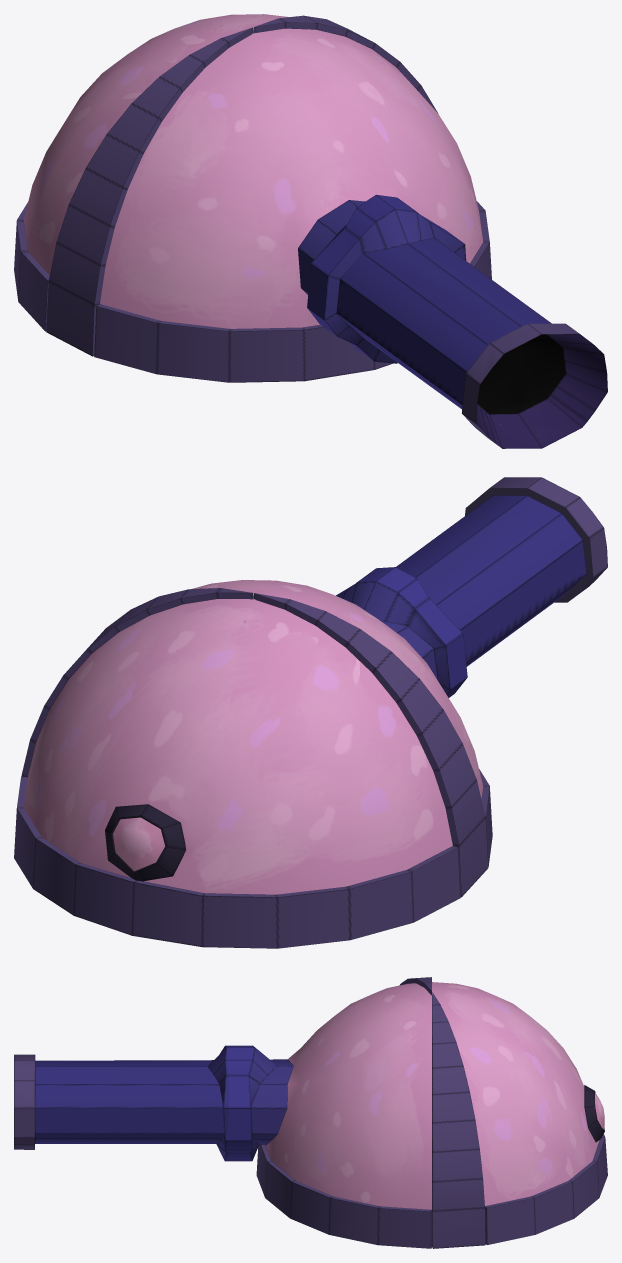
The model's file is Nighttime Turret Head.fbx.
3 renders of one model, top to bottom at view 1: azimuth 30°, elevation 25°; view 2: azimuth 150°, elevation 25°; view 3: azimuth 270°, elevation 25°, orthographic. The views are drawn at different scales.
Visible parts, largest first — view 1: pSphere1; view 2: pSphere1; view 3: pSphere1.
Boxes of the visible parts, bbox=[...] form: pSphere1: bbox=[14, 14, 607, 448]; pSphere1: bbox=[14, 477, 607, 948]; pSphere1: bbox=[14, 977, 607, 1248].
Bounding box in the file's own units: 3.49 × 2.04 × 5.96.
Materials: 1 (1 with a texture image).
